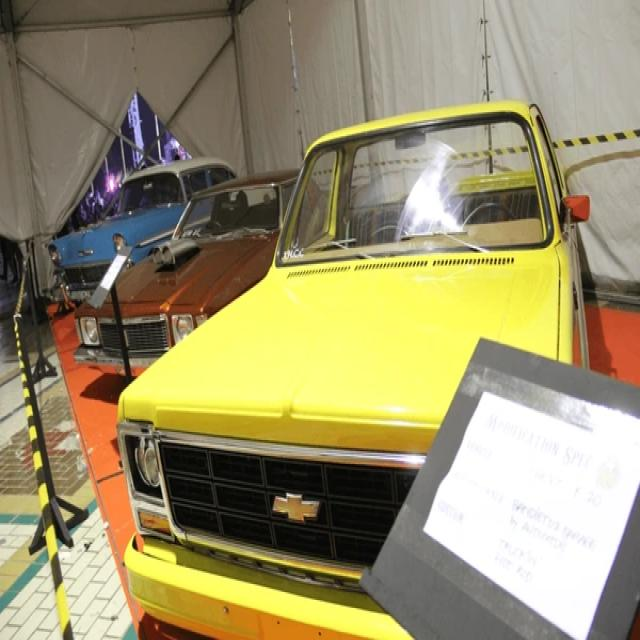chevrolet: (271, 486, 322, 530)
